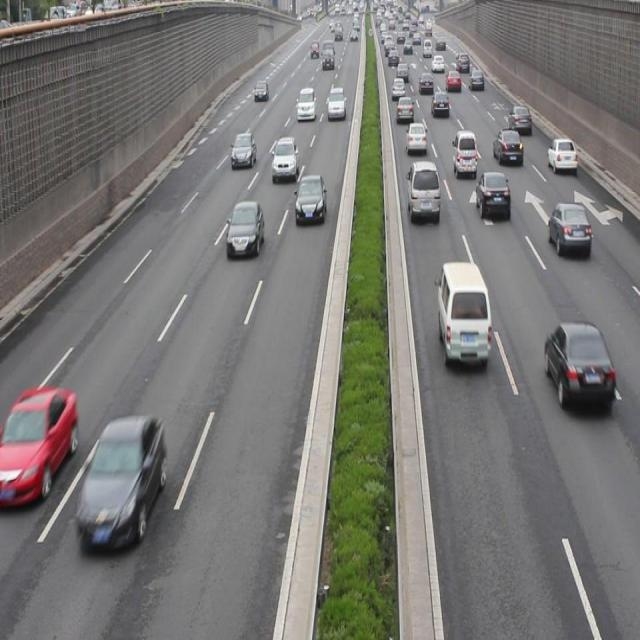car: (75, 412, 165, 552), (1, 386, 76, 508), (544, 319, 613, 412), (546, 200, 589, 255), (226, 198, 263, 259), (475, 168, 509, 220), (294, 173, 326, 226), (270, 134, 298, 180), (545, 136, 577, 173), (493, 128, 521, 168), (230, 132, 256, 168), (508, 103, 531, 135), (404, 119, 426, 152)
truck: (436, 258, 488, 365), (407, 160, 439, 220), (451, 127, 476, 178)
